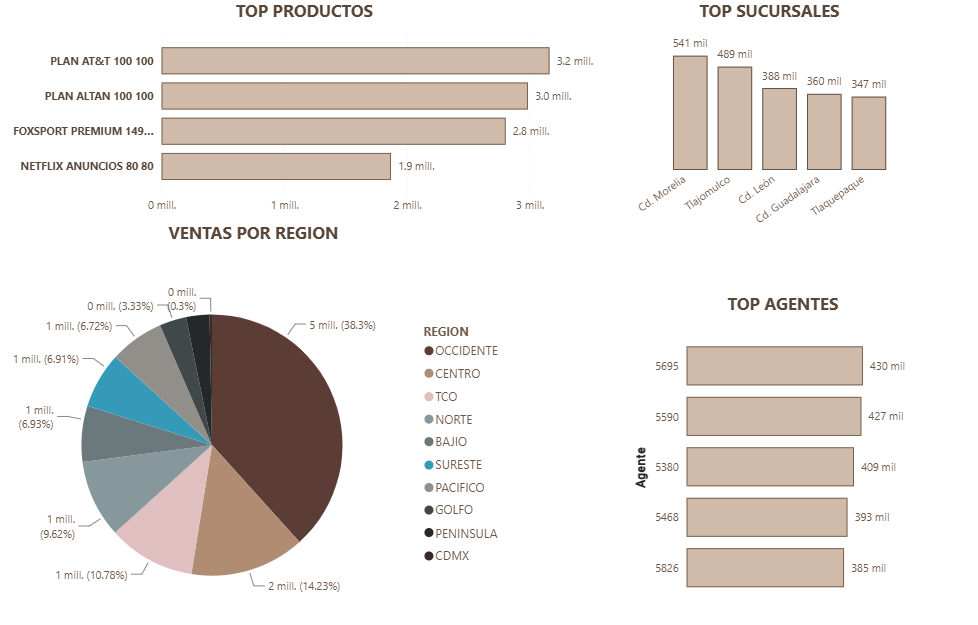

The dashboard page shown, as its layout file describes it:
{"tool":"powerbi","page":{"name":"graficos","canvas":[1280,720],"ordinal":0},"visuals":[{"type":"clusteredBarChart","title":"TOP PRODUCTOS","fields":{"Category":["dataset-ventas-2025-2026-clean.paquete_vendido"],"Y":["dataset-ventas-2025-2026-clean.Top productos"]},"box":[0,0,685,247],"z":0},{"type":"columnChart","title":"TOP SUCURSALES","fields":{"Category":["dataset-ventas-2025-2026-clean.SUCURSAL"],"Y":["dataset-ventas-2025-2026-clean.Top sucursales"]},"box":[703,0,312,268],"z":1000},{"type":"pieChart","title":"VENTAS POR REGION","fields":{"Category":["dataset-ventas-2025-2026-clean.REGION"],"Y":["dataset-ventas-2025-2026-clean.Facturacion Top 5"]},"box":[0,247,572,473],"z":2000},{"type":"barChart","title":"TOP AGENTES","fields":{"Category":["dataset-ventas-2025-2026-clean.agente"],"Y":["dataset-ventas-2025-2026-clean.Facturacion"]},"box":[703,325,342,357],"z":3000}]}

Visuals, with their boxes on the page's 1280x720 design canvas (x1, y1, x2, y2). These are canvas units, not pixel positions in the 978x625 screenshot, which may show the page scaled, cropped or inside an application window:
"TOP PRODUCTOS" clusteredBarChart: 0 0 685 247
"TOP SUCURSALES" columnChart: 703 0 1015 268
"VENTAS POR REGION" pieChart: 0 247 572 720
"TOP AGENTES" barChart: 703 325 1045 682
